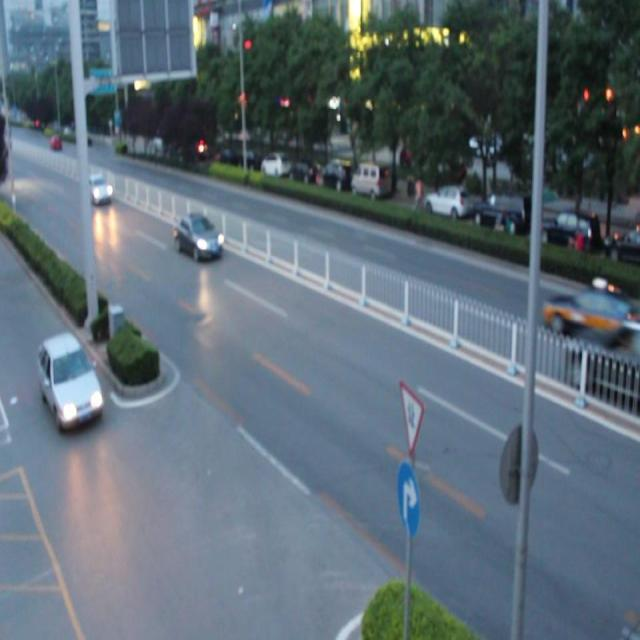car: (36, 334, 105, 429), (543, 282, 624, 340), (176, 212, 223, 261), (88, 174, 114, 206)
